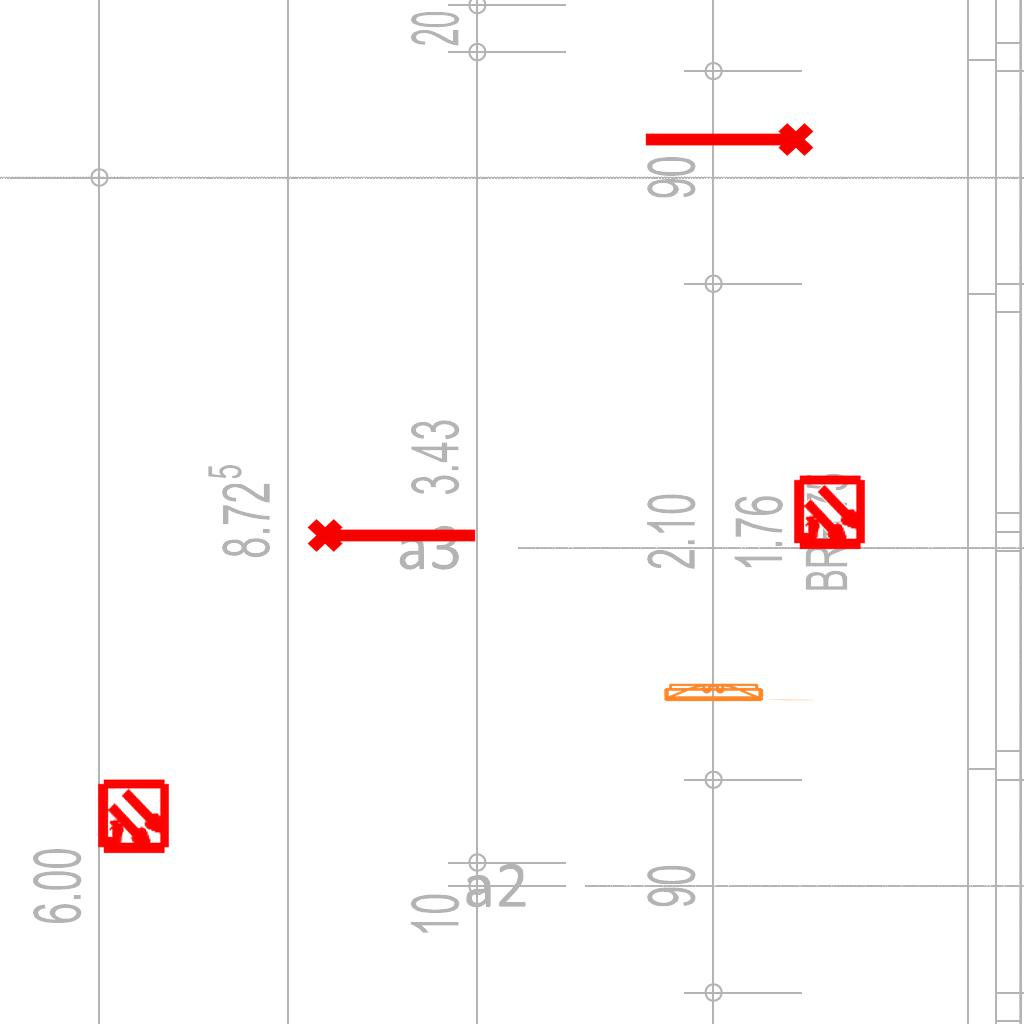ASR_Ansaugoeffnung: (305, 510, 481, 556), (640, 119, 816, 165)
OT_Multisensormelder_(Kombination_RMO_WMD): (77, 762, 190, 875), (773, 458, 886, 571)
Sicherheitsleuchte_Wandeinbau: (659, 679, 818, 704)
